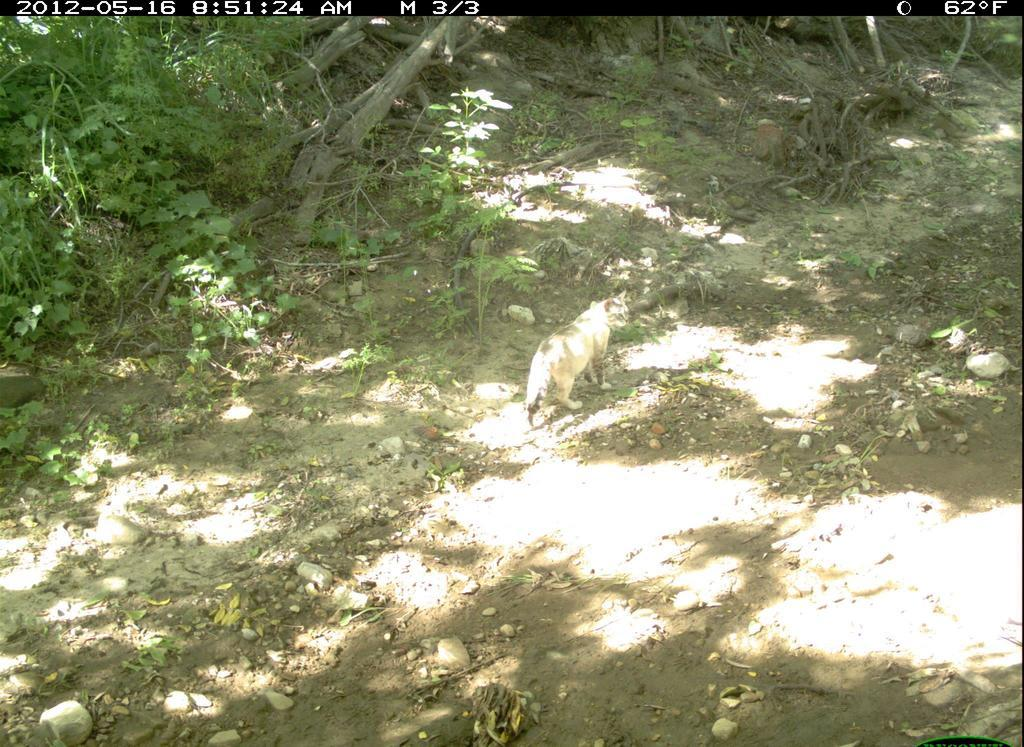cat: (518, 277, 649, 437)
